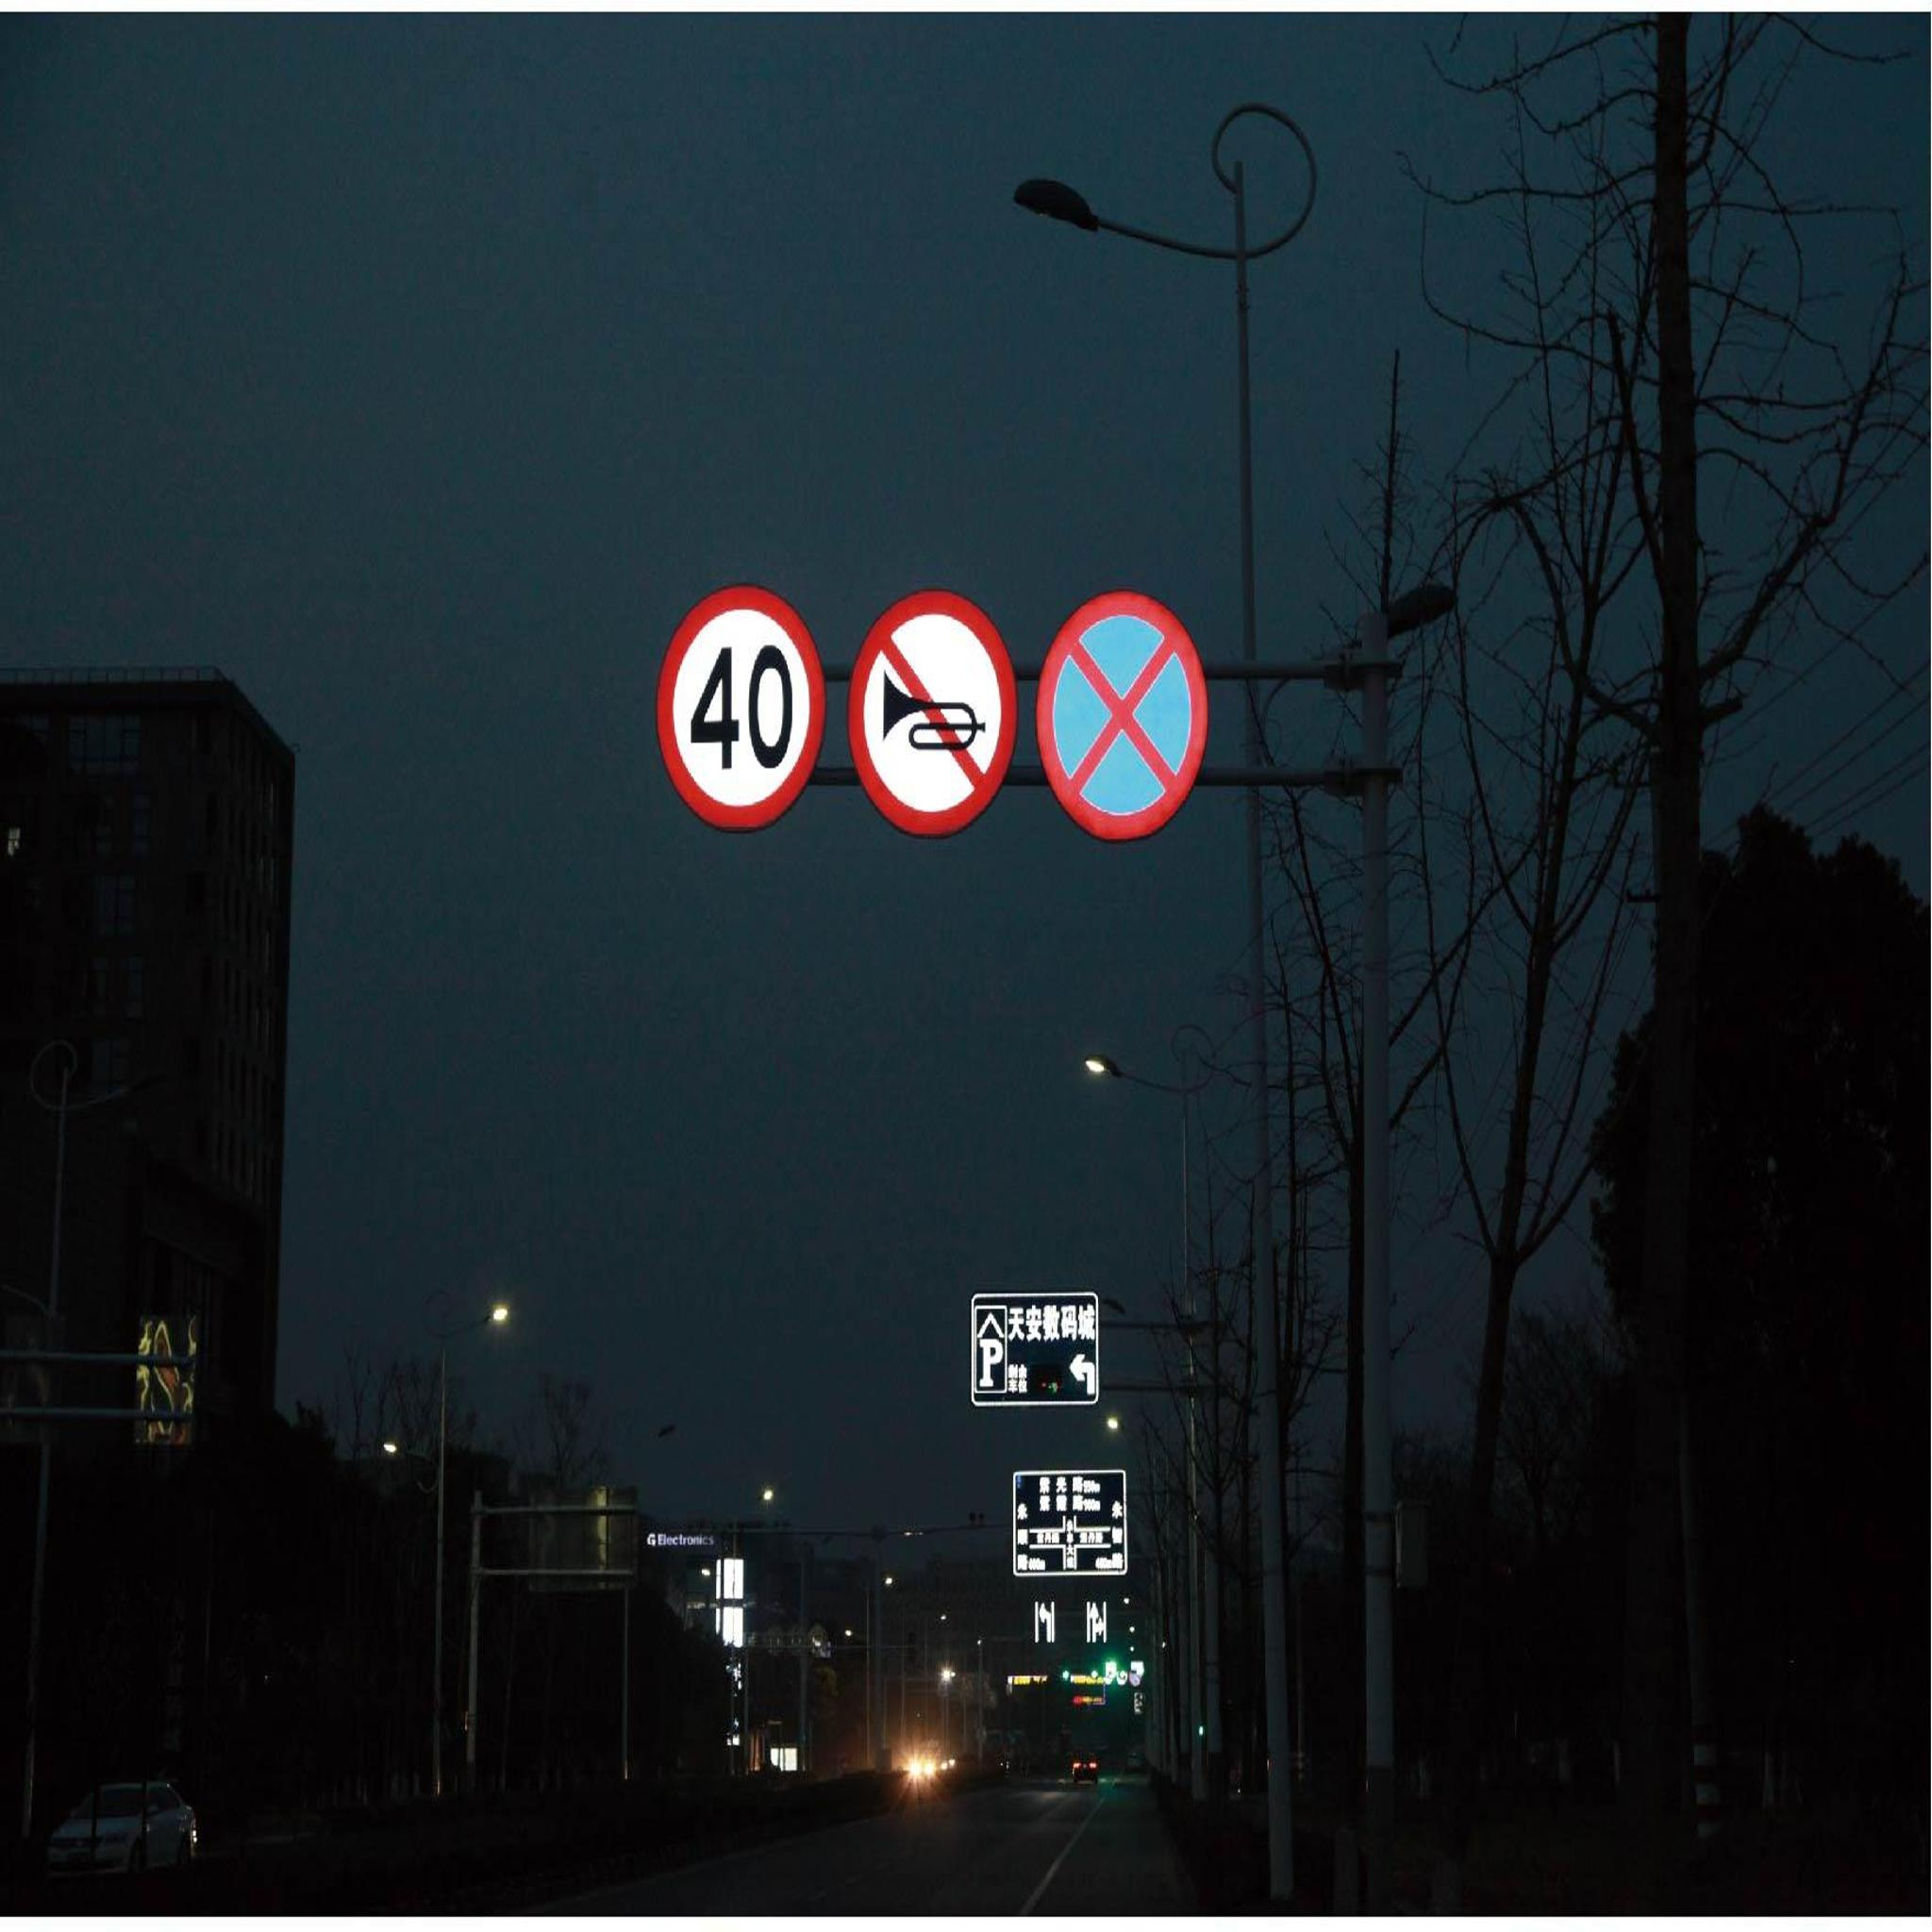p11: (847, 589, 1017, 842)
pl40: (655, 582, 826, 835)
pn: (1035, 589, 1208, 844)
